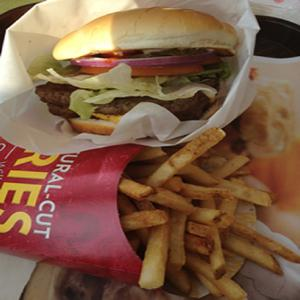fries_350cal: (15, 1, 261, 148), (123, 132, 296, 300)
